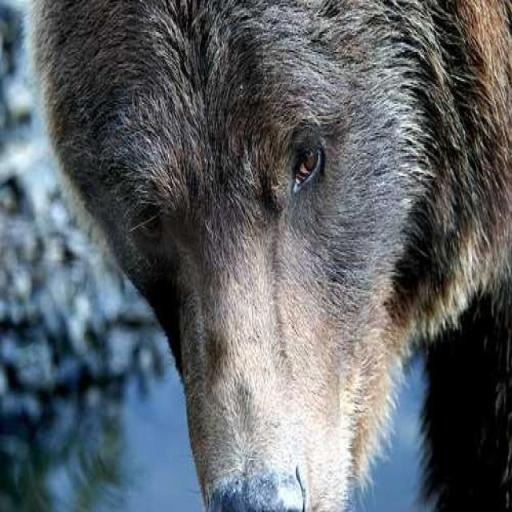Bear: (26, 0, 511, 510)
